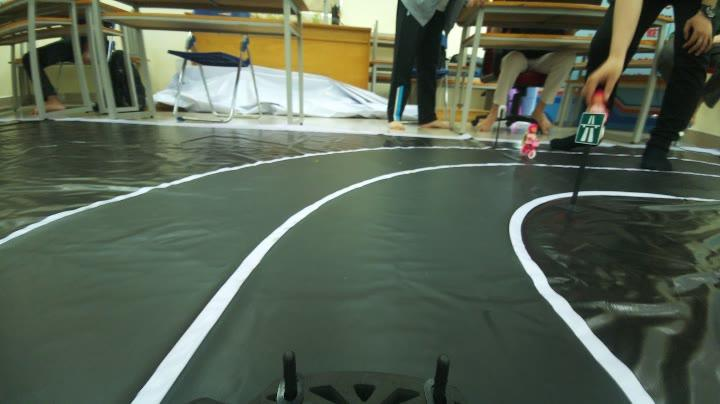highway_entry: (576, 111, 606, 150)
pedestrian: (510, 122, 542, 164)
